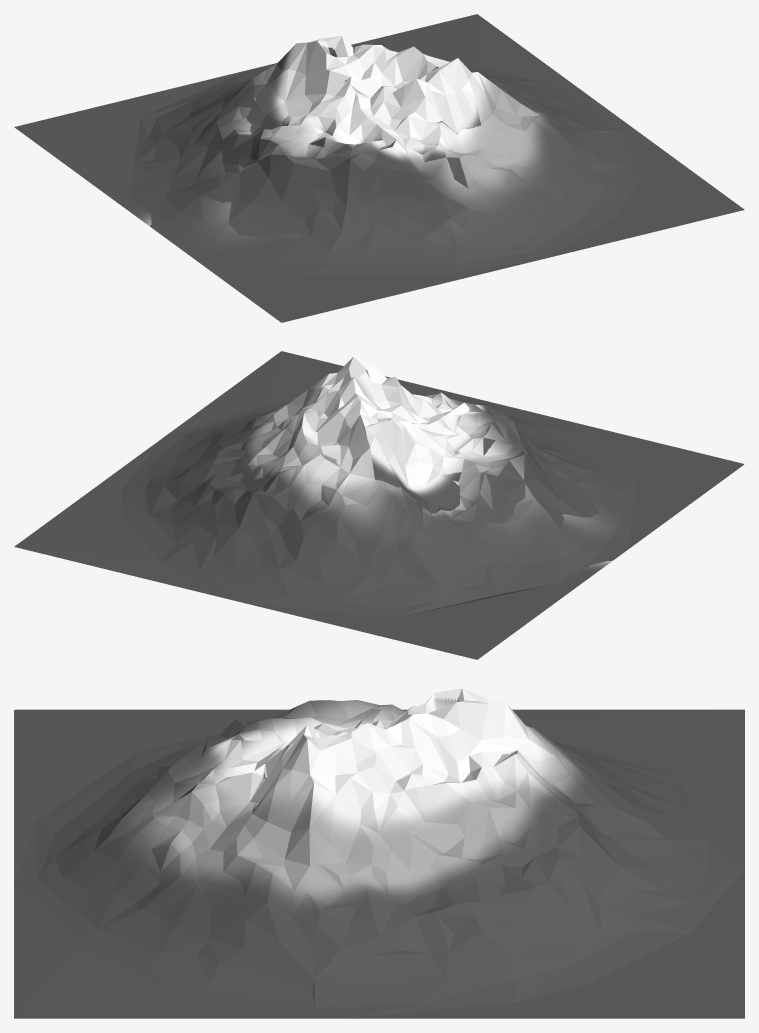
The model's file is mountain.fbx.
3 renders of one model, top to bottom at view 1: azimuth 30°, elevation 25°; view 2: azimuth 150°, elevation 25°; view 3: azimuth 270°, elevation 25°, orthographic. The views are drawn at different scales.
Parts seen in each view (by area): view 1: Landscape; view 2: Landscape; view 3: Landscape.
Boxes of the visible parts, x1,y1,x2,y2 form: Landscape: [14, 14, 744, 322]; Landscape: [14, 351, 744, 659]; Landscape: [14, 688, 744, 1018].
Size of the model in its own units: 200 by 48.65 by 200.
Materials: 1 (1 with a texture image).
